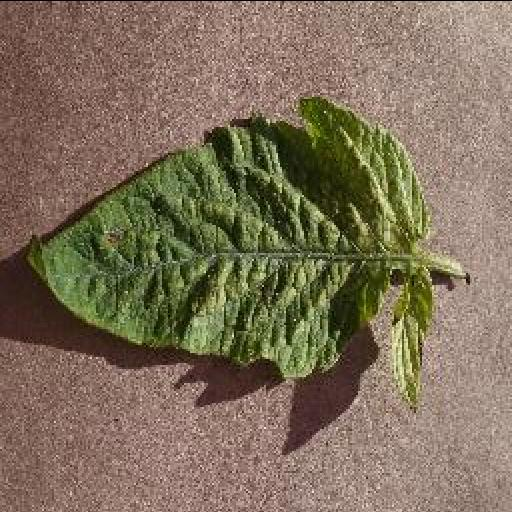disease_tomato: (24, 92, 432, 410)
